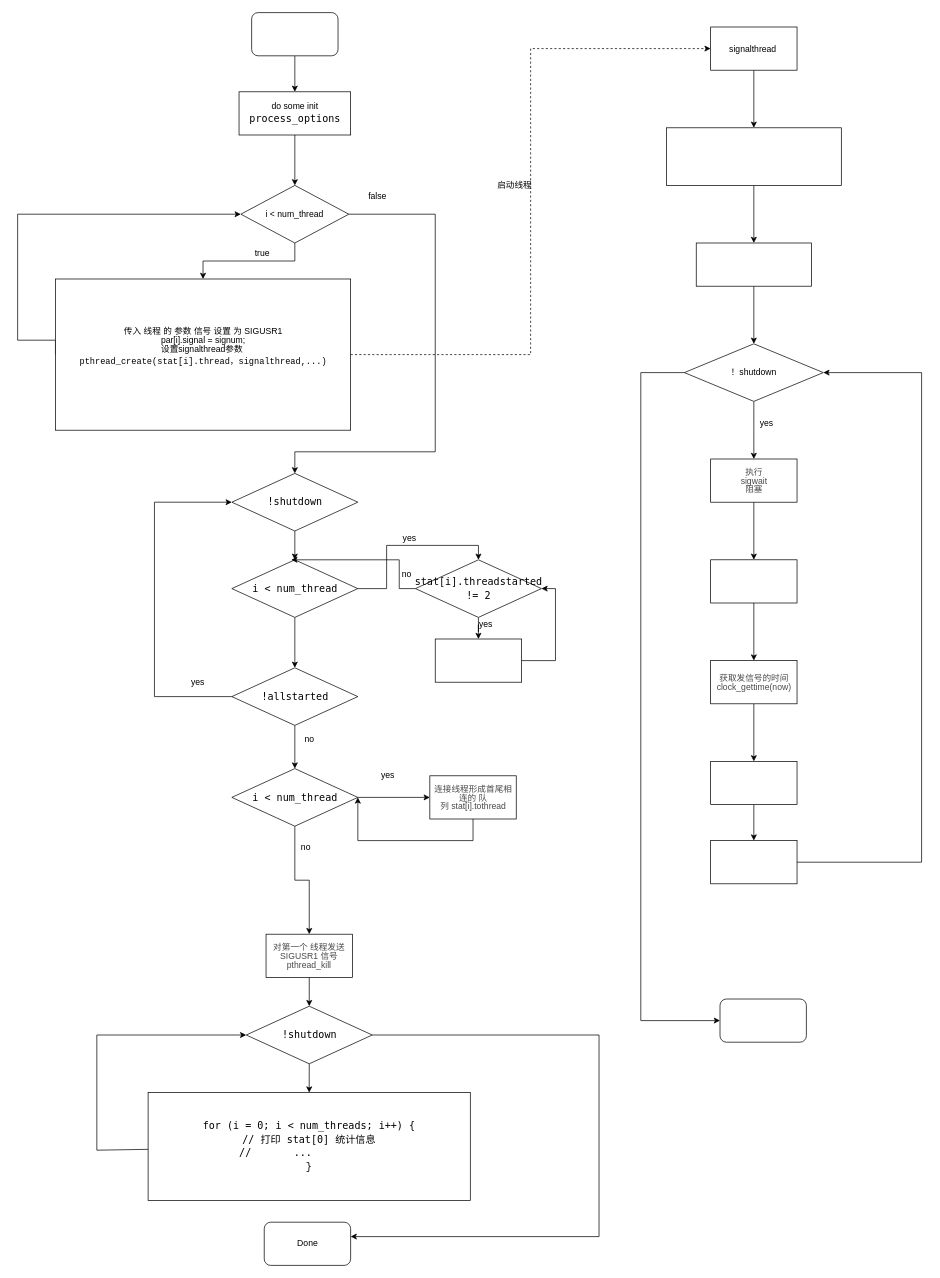
The diagram is 940 pixels wide and 1278 high, and some of its shapes have lost their labels. The centre of each missing label's shape, as x and y in pixels:
"allstarted = 0;" goes at (x=478, y=660).
"main" goes at (x=294, y=34).
"参数设置" goes at (x=753, y=156).
"向下一个线程发送信号 pthread_kill( tothread)" goes at (x=753, y=783).
"结束" goes at (x=762, y=1020).
"获取阻塞后的时间 clock_gettime（after）" goes at (x=753, y=581).
"计算 diff 更新 统计信息" goes at (x=753, y=862).
"记录 时间 before clock_gettime(before)" goes at (x=753, y=264).
